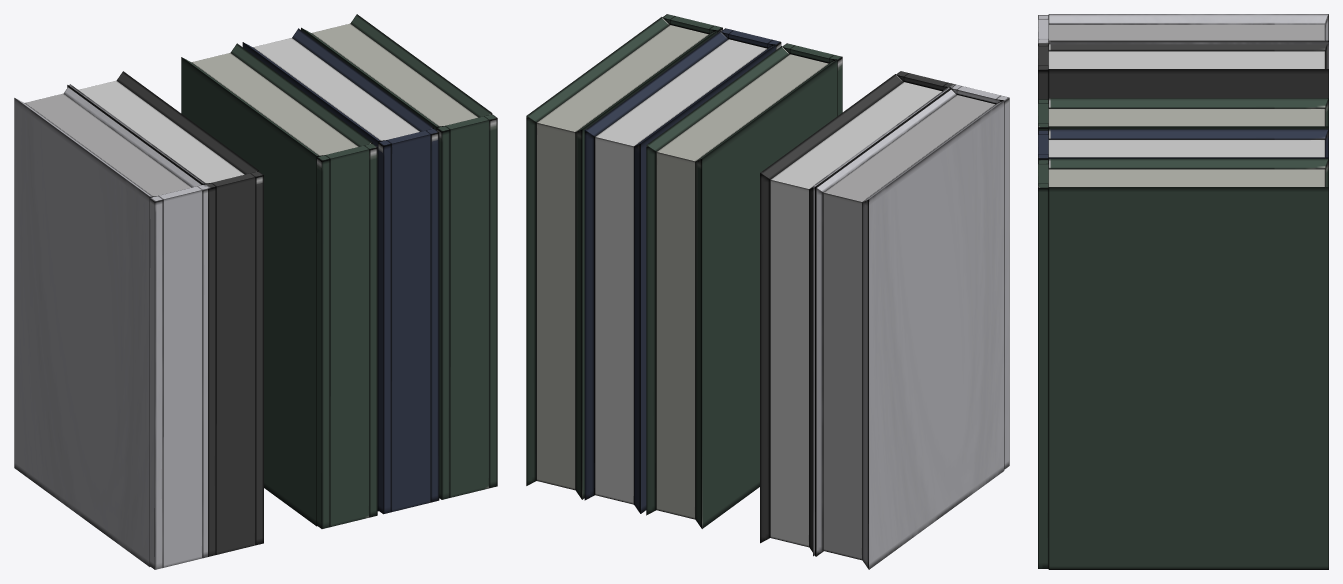
The model's file is livros.glb.
3 views of the same model, side by side, from view 1: azimuth 30°, elevation 25°; view 2: azimuth 150°, elevation 25°; view 3: azimuth 270°, elevation 25° (orthographic). The views are drawn at different scales.
Parts seen in each view (by area): view 1: livros.065, livros.068, livros.069, livros.060, livros.066; view 2: livros.065, livros.068, livros.069, livros.060, livros.066; view 3: livros.060, livros.066, livros.068, livros.065, livros.069.
Boxes of the visible parts, x1,y1,x2,y2 form: livros.065: (14, 84, 210, 569); livros.068: (181, 43, 377, 528); livros.069: (242, 28, 439, 514); livros.060: (301, 14, 497, 499); livros.066: (67, 71, 263, 556); livros.065: (813, 84, 1009, 569); livros.068: (646, 43, 842, 528); livros.069: (584, 28, 781, 513); livros.060: (526, 14, 722, 499); livros.066: (760, 71, 955, 556); livros.060: (1038, 158, 1328, 569); livros.066: (1038, 40, 1328, 99); livros.068: (1038, 98, 1328, 130); livros.065: (1038, 14, 1328, 68); livros.069: (1038, 129, 1328, 159).
Size of the model in its own units: 0.7839 by 0.81 by 0.5574.
4 materials, 4 textured.
